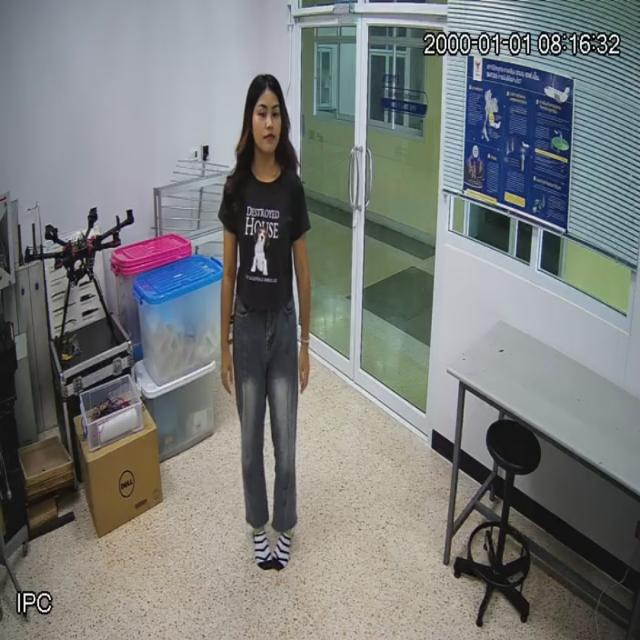normal: (217, 65, 316, 569)
